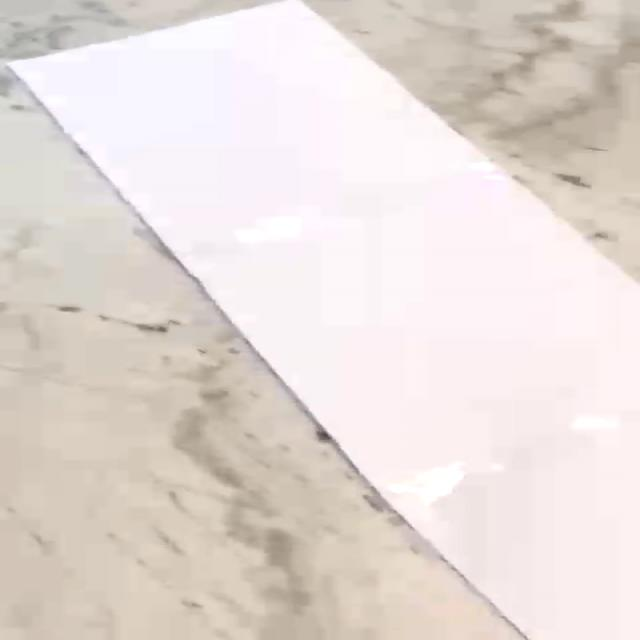road: (11, 0, 637, 640)
